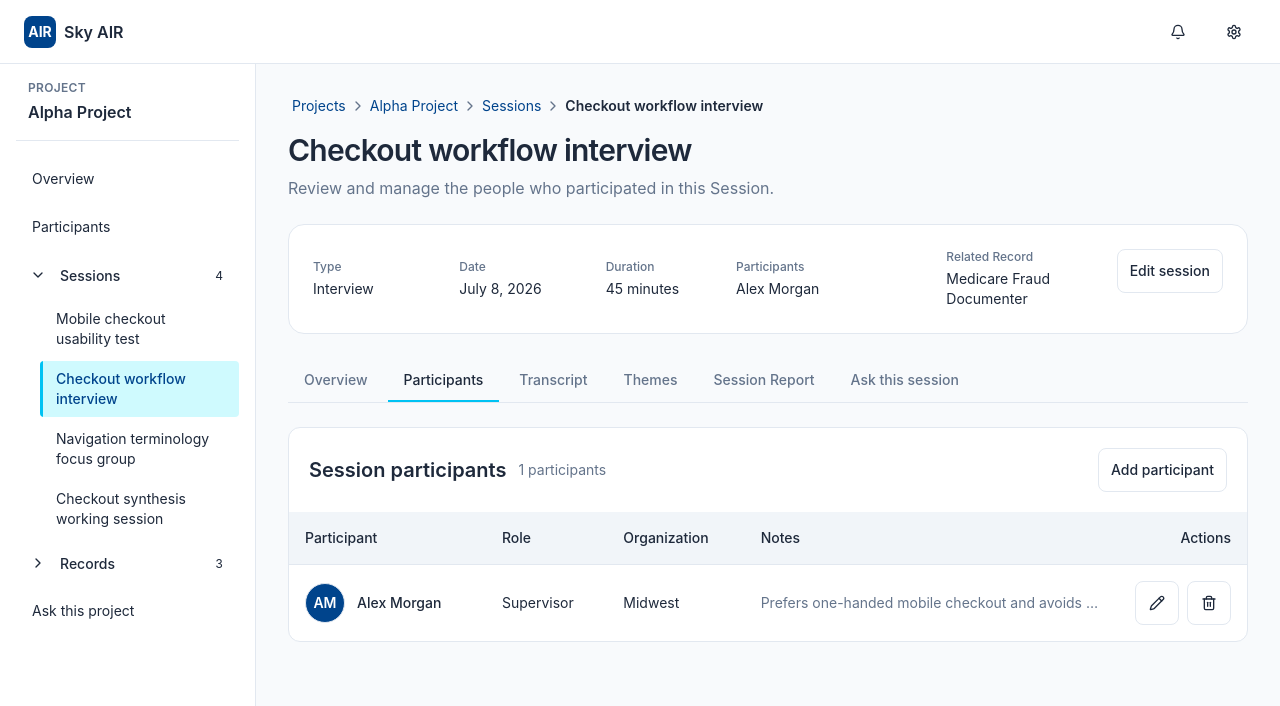
Test: application router foundation › removes a participant from the Session while preserving the Project participant
Click the button named "Remove participant from Session: Alex Morgan". click: (1209, 603)
box: [1187,581,1231,625]
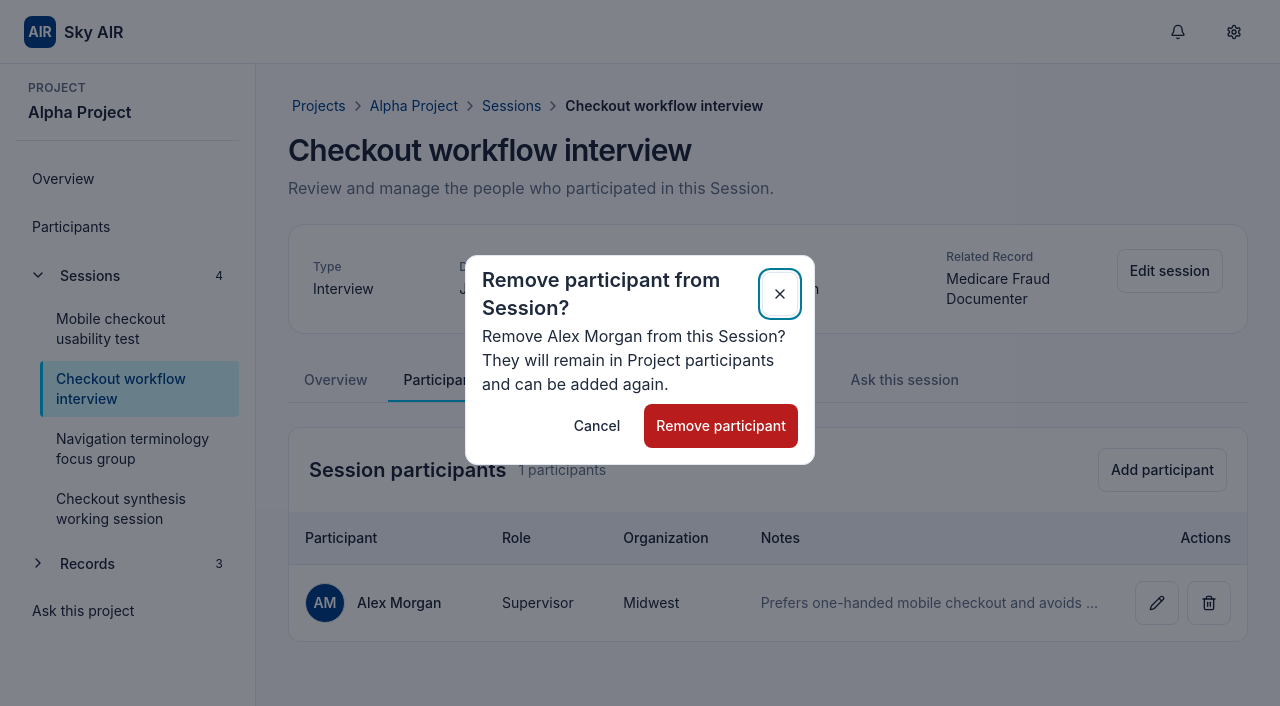
Now the text "remain in Project participants" is shown, box [482,326,786,394]
Click the button "Remove participant". click: (721, 426)
box: [644,404,798,448]
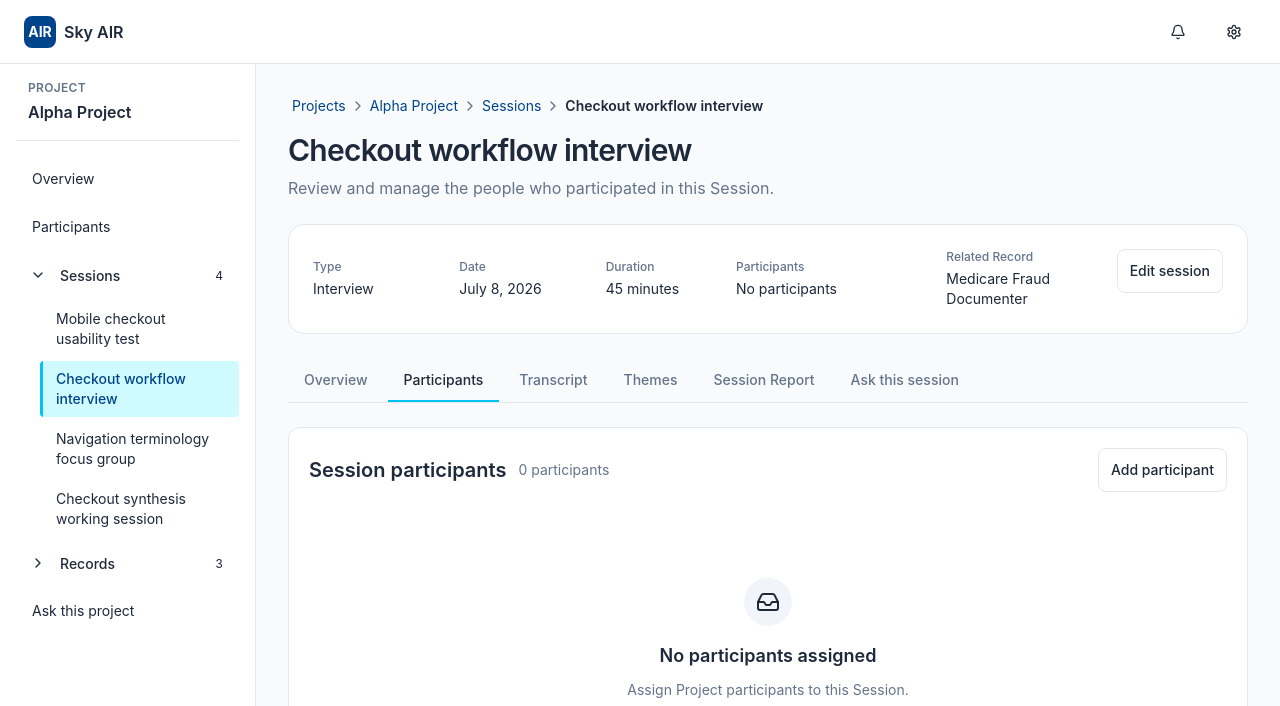
Now the text "0 participants" is shown, box [518,460,609,480]
Click the button "Add participant". click: (1162, 470)
box: [1098,448,1227,492]
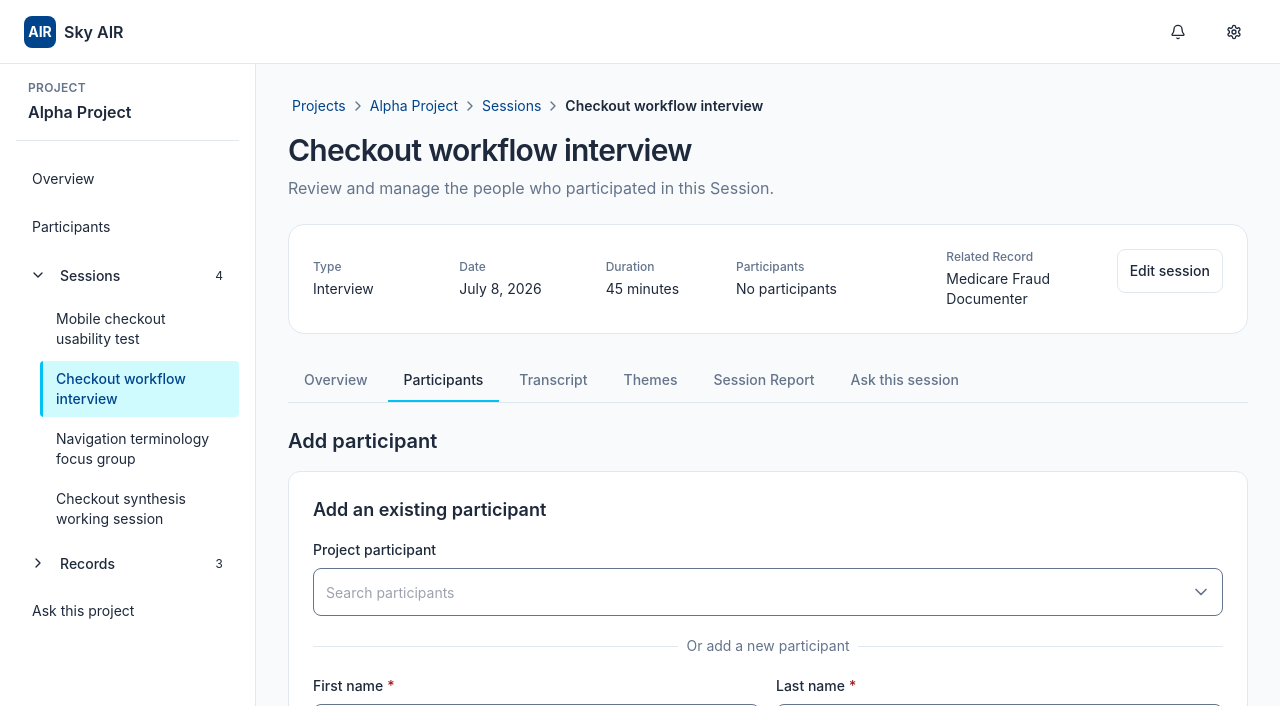
Click the dropdown labelled "Project participant". click: (768, 592)
box: [313,568,1223,616]
(page scrolled)
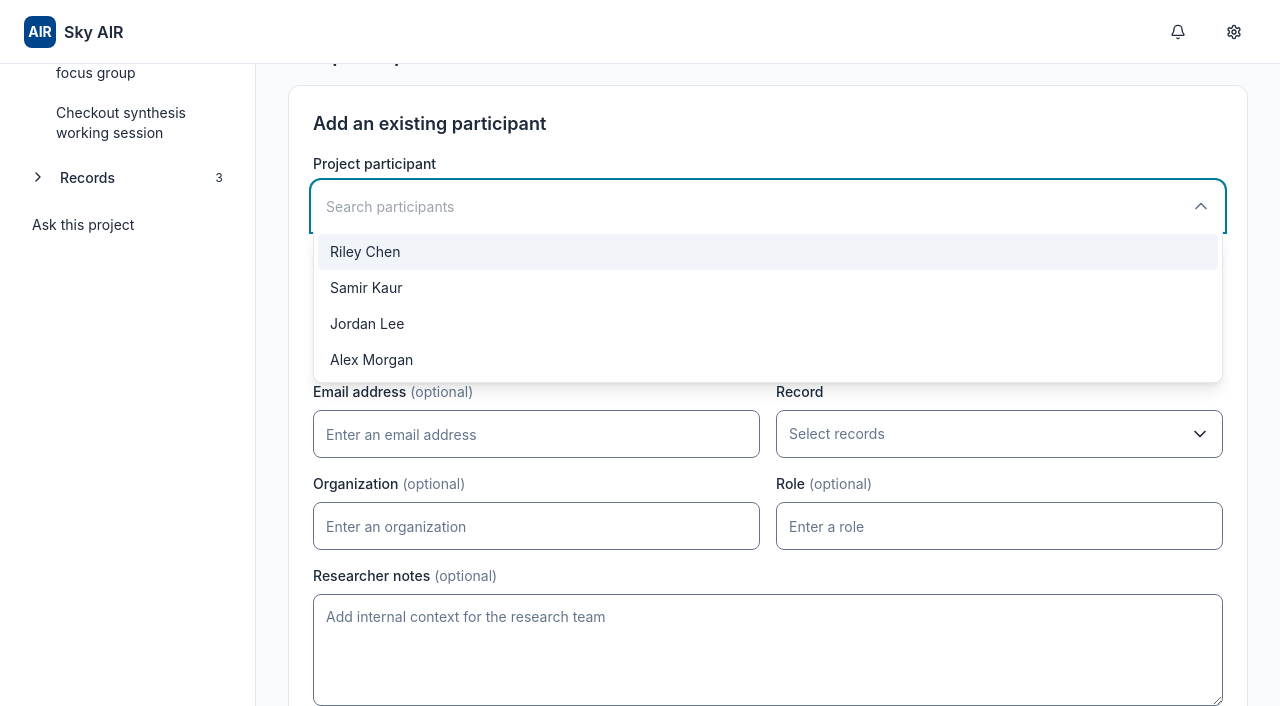
Now the option "Alex Morgan" is shown, box [330,351,413,368]
